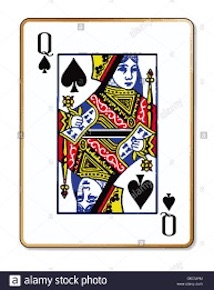QueenOfSpades: (17, 16, 199, 253)
